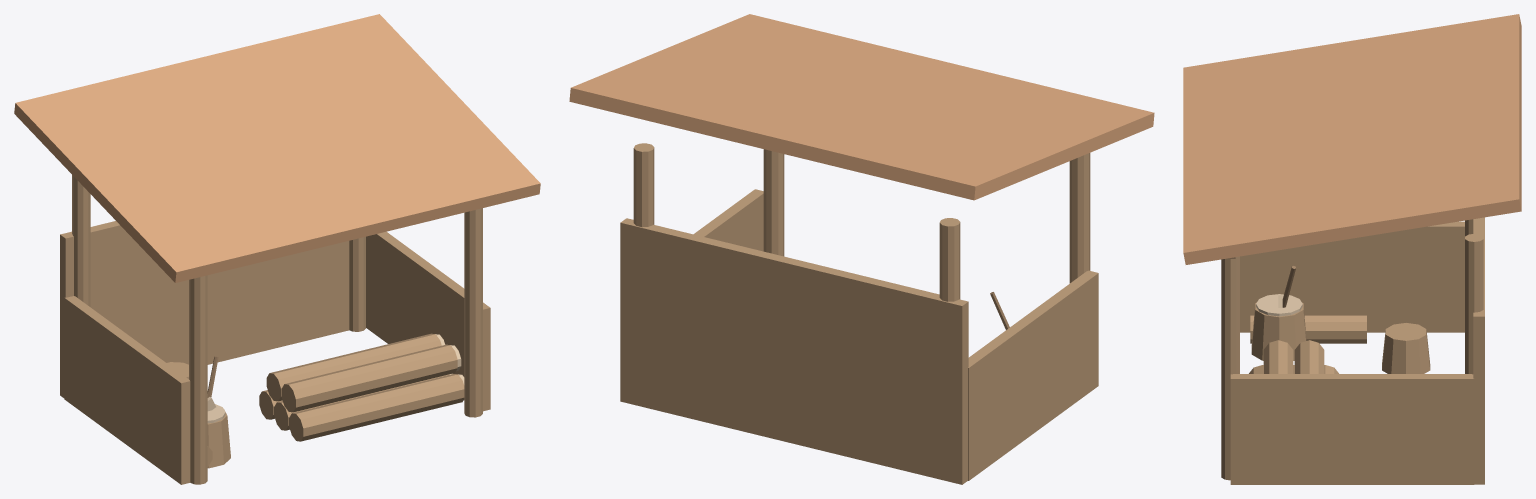
File: lumber.glb
The picture shows the model from 3 angles, left to right: view 1: azimuth 30°, elevation 25°; view 2: azimuth 150°, elevation 25°; view 3: azimuth 270°, elevation 25°; orthographic projection. The views are drawn at different scales.
Visible parts, largest first — view 1: roof_slab, wall_back, wall_side_-1, wall_side_1, log_4, log_2, post_1_1, post_-1_1, log_3, post_-1_-1, post_1_-1, stump_1 (+1 smaller); view 2: wall_back, roof_slab, wall_side_-1, post_-1_1, wall_side_1, post_1_1, post_-1_-1, post_1_-1; view 3: roof_slab, wall_side_1, wall_side_-1, post_1_1, wall_back, stump_2, post_1_-1, log_ground, stump_1, log_3, log_4, stump_1_top.
Part boxes in pixels (bbox=[...]): roof_slab: bbox=[14, 14, 540, 282]; wall_back: bbox=[60, 221, 349, 397]; wall_side_-1: bbox=[64, 296, 190, 484]; wall_side_1: bbox=[366, 231, 490, 411]; log_4: bbox=[281, 344, 457, 412]; log_2: bbox=[289, 374, 464, 441]; post_1_1: bbox=[464, 208, 482, 417]; post_-1_1: bbox=[189, 275, 207, 484]; log_3: bbox=[266, 333, 441, 401]; post_-1_-1: bbox=[72, 175, 90, 306]; post_1_-1: bbox=[349, 236, 365, 331]; stump_1: bbox=[207, 409, 230, 468]; wall_back: bbox=[620, 218, 968, 484]; roof_slab: bbox=[569, 14, 1154, 200]; wall_side_-1: bbox=[968, 270, 1098, 480]; post_-1_1: bbox=[1069, 153, 1090, 283]; wall_side_1: bbox=[693, 189, 763, 251]; post_1_1: bbox=[763, 149, 784, 256]; post_-1_-1: bbox=[939, 218, 960, 301]; post_1_-1: bbox=[633, 143, 654, 227]; roof_slab: bbox=[1183, 14, 1521, 264]; wall_side_1: bbox=[1230, 374, 1474, 484]; wall_side_-1: bbox=[1240, 221, 1464, 332]; post_1_1: bbox=[1221, 256, 1239, 480]; wall_back: bbox=[1473, 217, 1484, 484]; stump_2: bbox=[1382, 323, 1430, 373]; post_1_-1: bbox=[1465, 233, 1483, 374]; log_ground: bbox=[1250, 315, 1366, 343]; stump_1: bbox=[1251, 302, 1306, 360]; log_3: bbox=[1294, 340, 1324, 373]; log_4: bbox=[1263, 340, 1293, 373]; stump_1_top: bbox=[1256, 294, 1302, 316].
Bounding box in the file's own units: 4.64 × 3.5 × 3.58.
